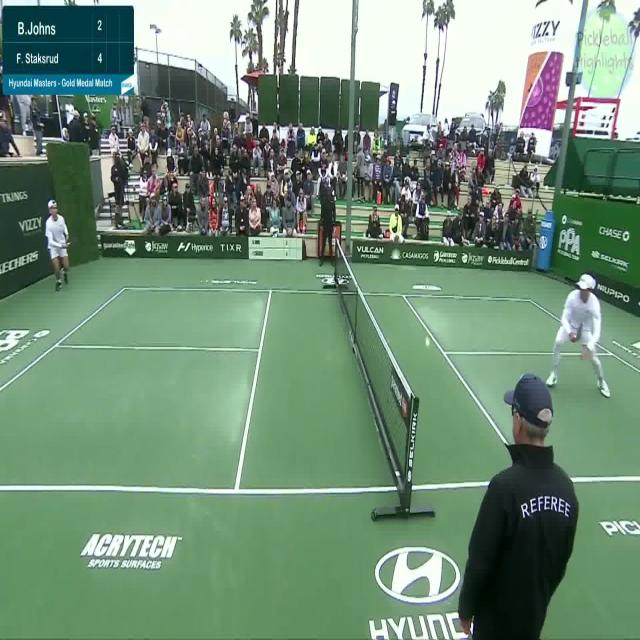ball: (422, 319, 435, 358)
